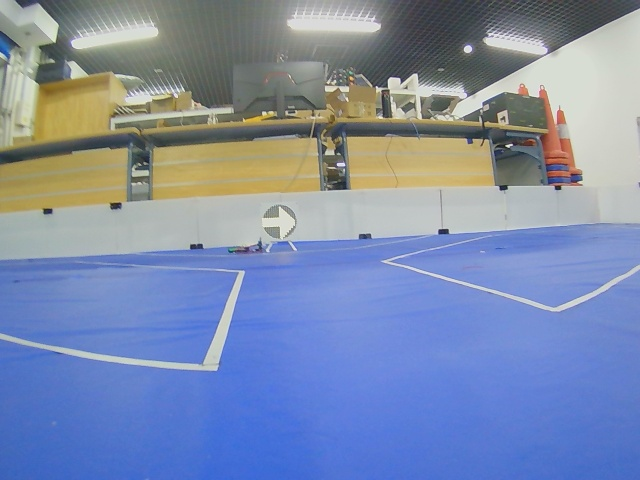right_yellow: (262, 205, 296, 240)
